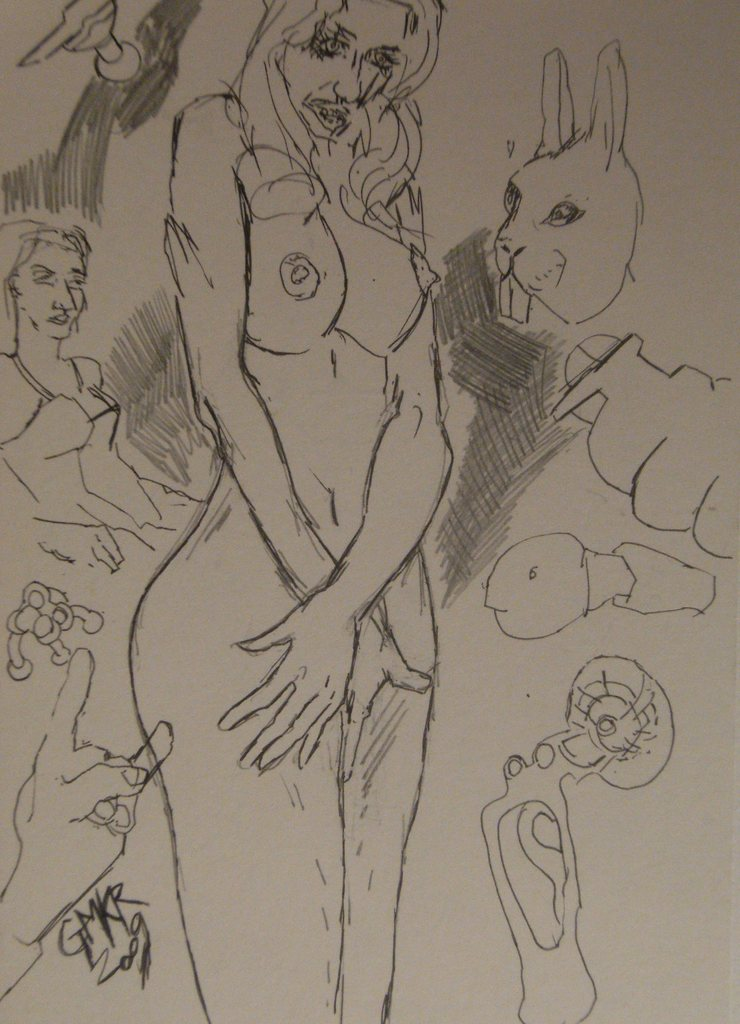Human_hand: (12, 647, 175, 881), (211, 589, 354, 770), (343, 606, 434, 781), (45, 516, 122, 578)
